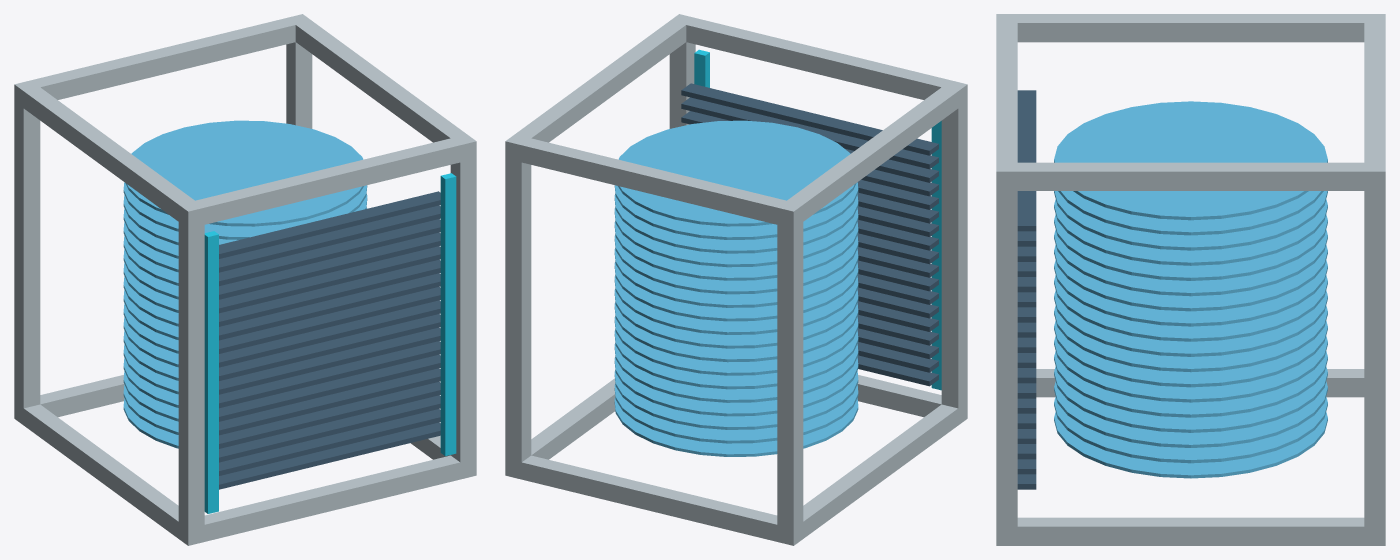
Rendered from 11_L74_SiliconWaferCarrierCassette.fbx.
The picture shows the model from 3 angles, left to right: view 1: azimuth 30°, elevation 25°; view 2: azimuth 150°, elevation 25°; view 3: azimuth 270°, elevation 25°; orthographic projection. The views are drawn at different scales.
Parts seen in each view (by area): view 1: SiliconWaferCarrierCassette; view 2: SiliconWaferCarrierCassette; view 3: SiliconWaferCarrierCassette.
Boxes of the visible parts, left/top/right/bottom form: SiliconWaferCarrierCassette: left=14, top=14, right=476, bottom=545; SiliconWaferCarrierCassette: left=505, top=14, right=967, bottom=545; SiliconWaferCarrierCassette: left=996, top=14, right=1385, bottom=545.
Bounding box in the file's own units: 158 × 175 × 165.
